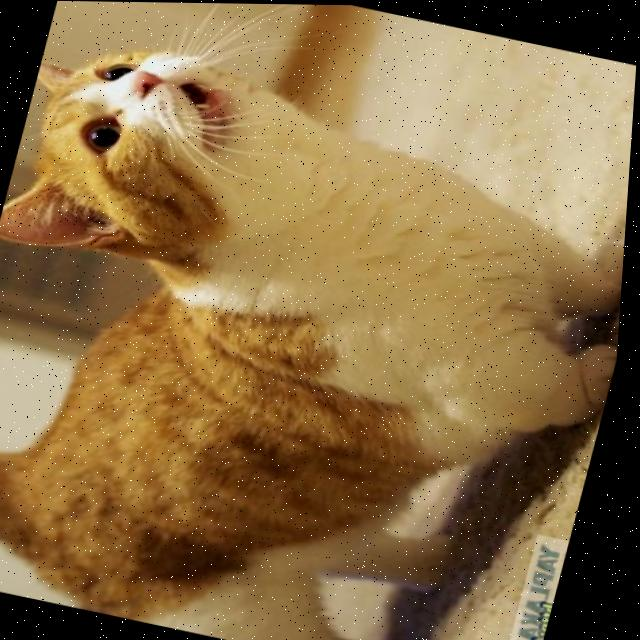Munchkin: (0, 19, 639, 640)
